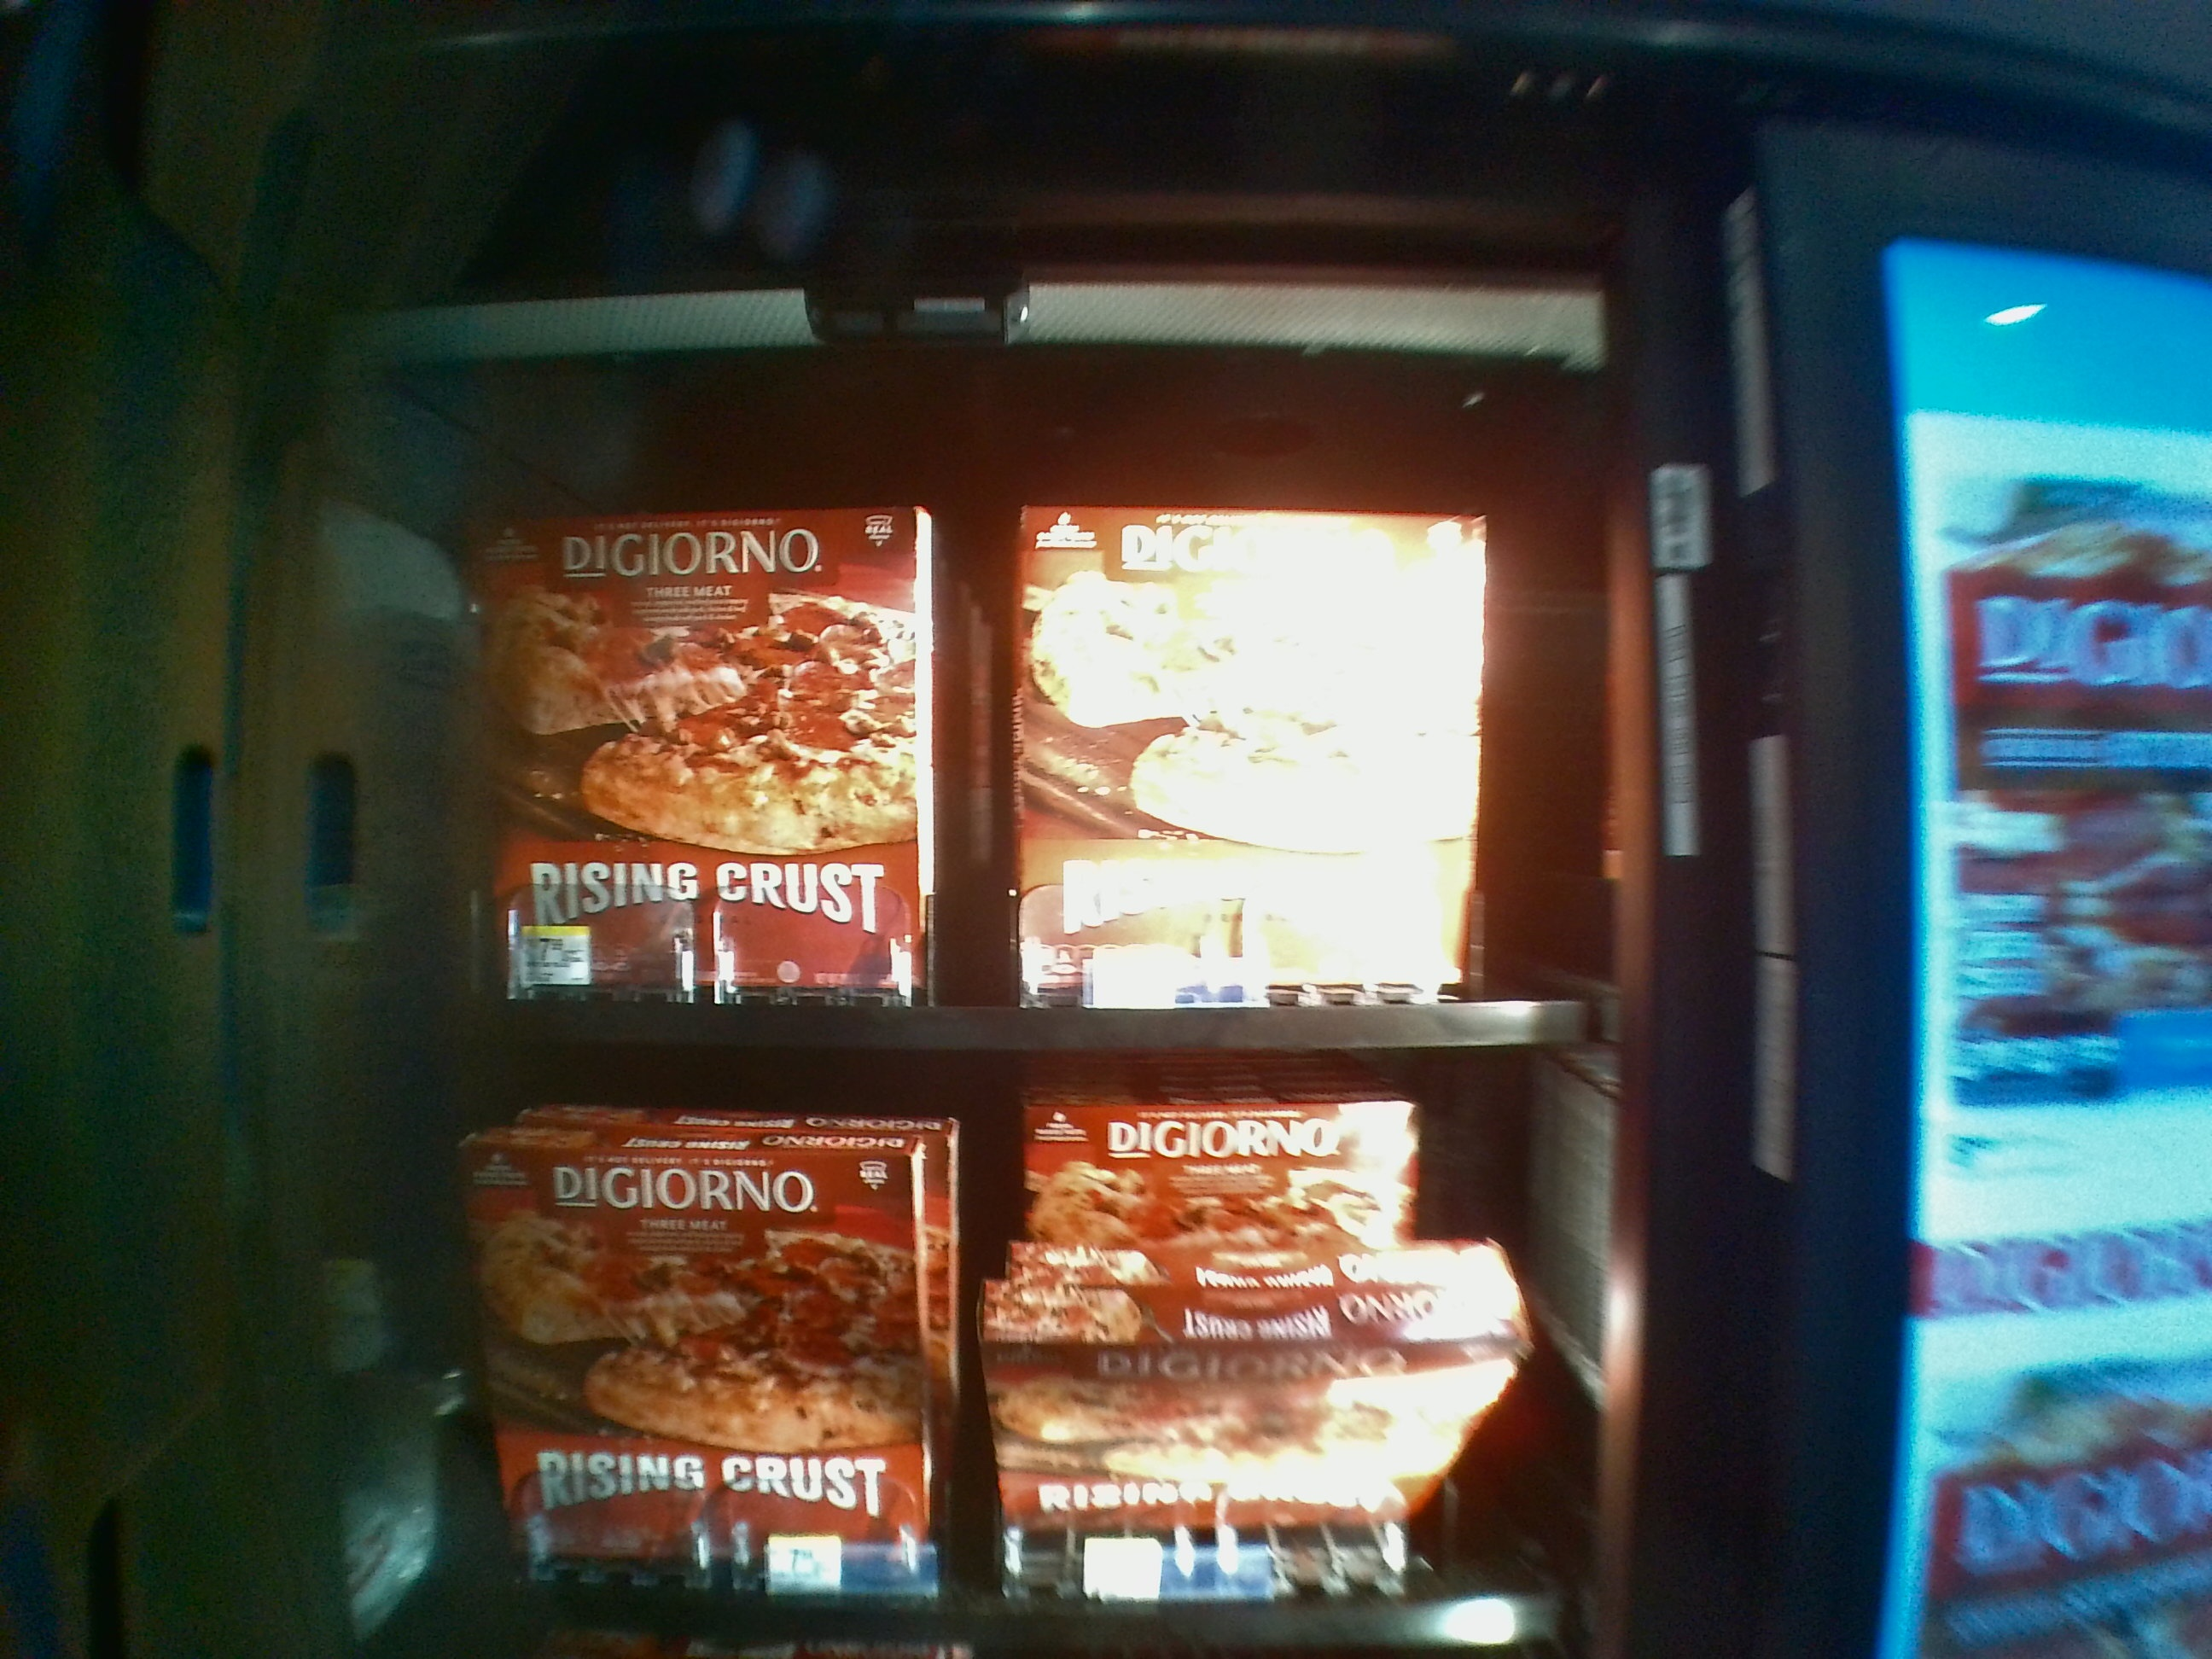shelf: (373, 380, 1611, 1046), (371, 1056, 1587, 1659)
